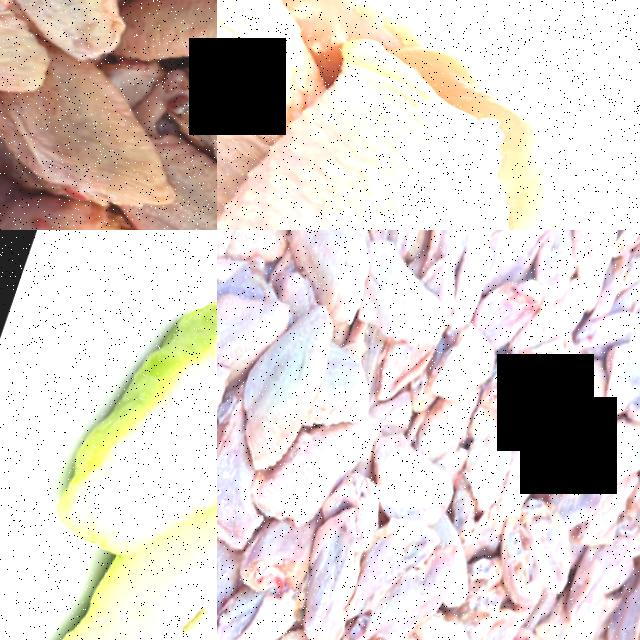chayote: (89, 501, 217, 640), (150, 262, 217, 475)
chicken thigh: (217, 0, 618, 230)
